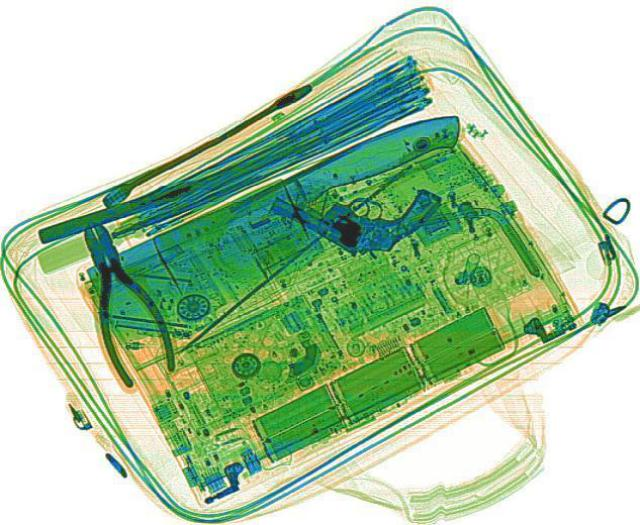Gun: (262, 136, 446, 269)
Knife: (67, 101, 510, 346)
Pliers: (52, 216, 186, 387)
